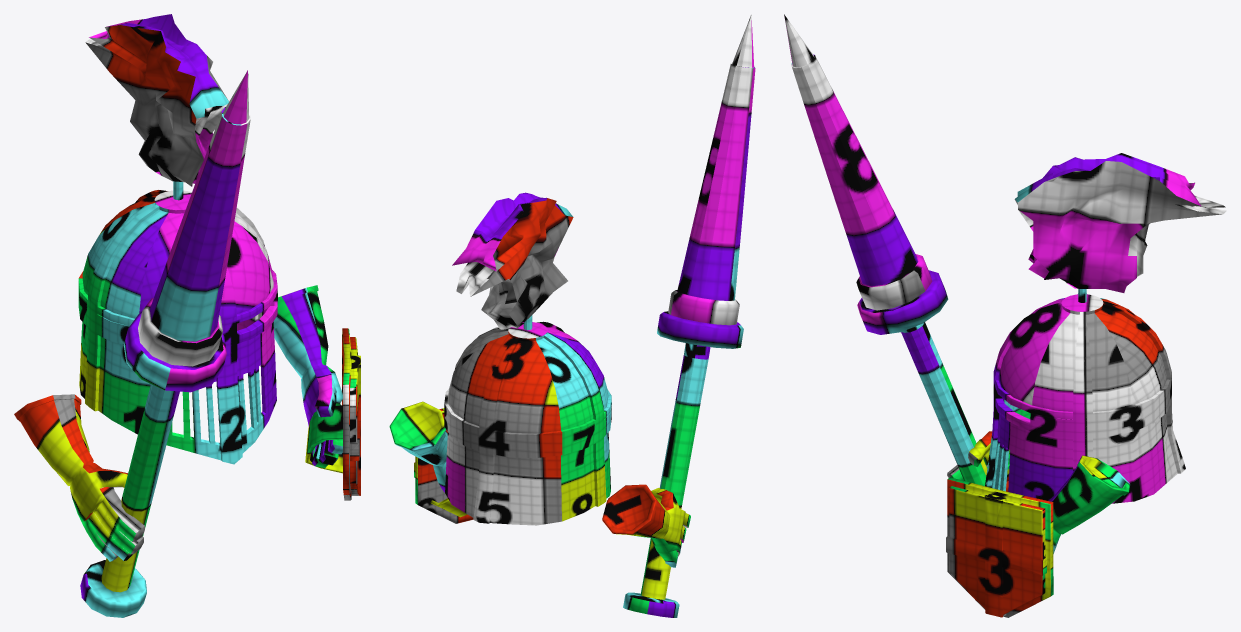
The model's file is mod_knight.fbx.
3 renders of one model, left to right at view 1: azimuth 30°, elevation 25°; view 2: azimuth 150°, elevation 25°; view 3: azimuth 270°, elevation 25°, orthographic. The views are drawn at different scales.
Parts seen in each view (by area): view 1: helmet, lance, feather, glove_right, glove_left, shield, strap; view 2: helmet, lance, feather, glove_right, glove_left, shield; view 3: helmet, lance, feather, shield, glove_left, glove_right.
Boxes of the visible parts, box(x1,y1,x2,y2) form: helmet: box(78, 190, 277, 464); lance: box(80, 70, 250, 617); feather: box(85, 14, 228, 186); glove_right: box(14, 394, 144, 561); glove_left: box(273, 285, 342, 468); shield: box(342, 328, 360, 500); strap: box(305, 405, 342, 473); helmet: box(444, 321, 611, 525); lance: box(623, 14, 755, 617); feather: box(452, 192, 573, 329); glove_right: box(602, 484, 690, 567); glove_left: box(389, 401, 447, 492); shield: box(414, 408, 473, 523); helmet: box(985, 293, 1185, 503); lance: box(784, 14, 987, 486); feather: box(1014, 153, 1226, 292); shield: box(946, 477, 1053, 617); glove_left: box(1048, 455, 1130, 553); glove_right: box(947, 431, 1009, 491).
Size of the model in its own units: 71.75 by 137 by 98.79.
Materials: 1 (1 with a texture image).
